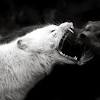Lobo: (1, 19, 79, 92)
